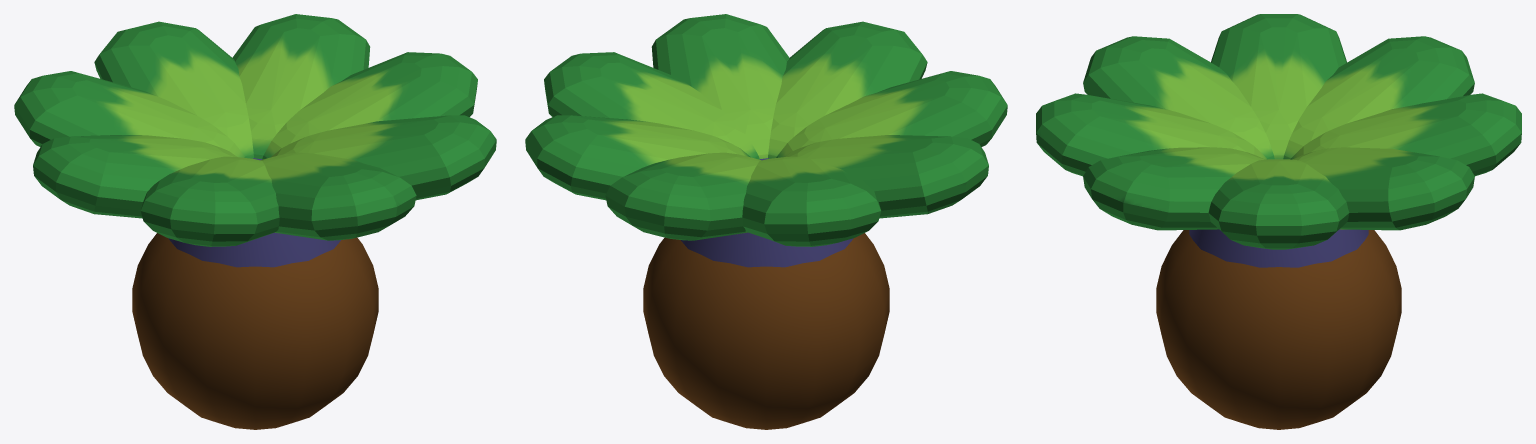
The model's file is jumpflower.fbx.
3 views of the same model, side by side, from view 1: azimuth 30°, elevation 25°; view 2: azimuth 150°, elevation 25°; view 3: azimuth 270°, elevation 25° (orthographic).
Visible parts, largest first — view 1: jumpFlower_low_poly_cut_up:polySurface1; view 2: jumpFlower_low_poly_cut_up:polySurface1; view 3: jumpFlower_low_poly_cut_up:polySurface1.
Part boxes in pixels (x1,y1,x2,y2): jumpFlower_low_poly_cut_up:polySurface1: (14, 14, 496, 429); jumpFlower_low_poly_cut_up:polySurface1: (525, 14, 1007, 429); jumpFlower_low_poly_cut_up:polySurface1: (1036, 14, 1521, 429).
Size of the model in its own units: 5.98 by 4.25 by 5.98.
